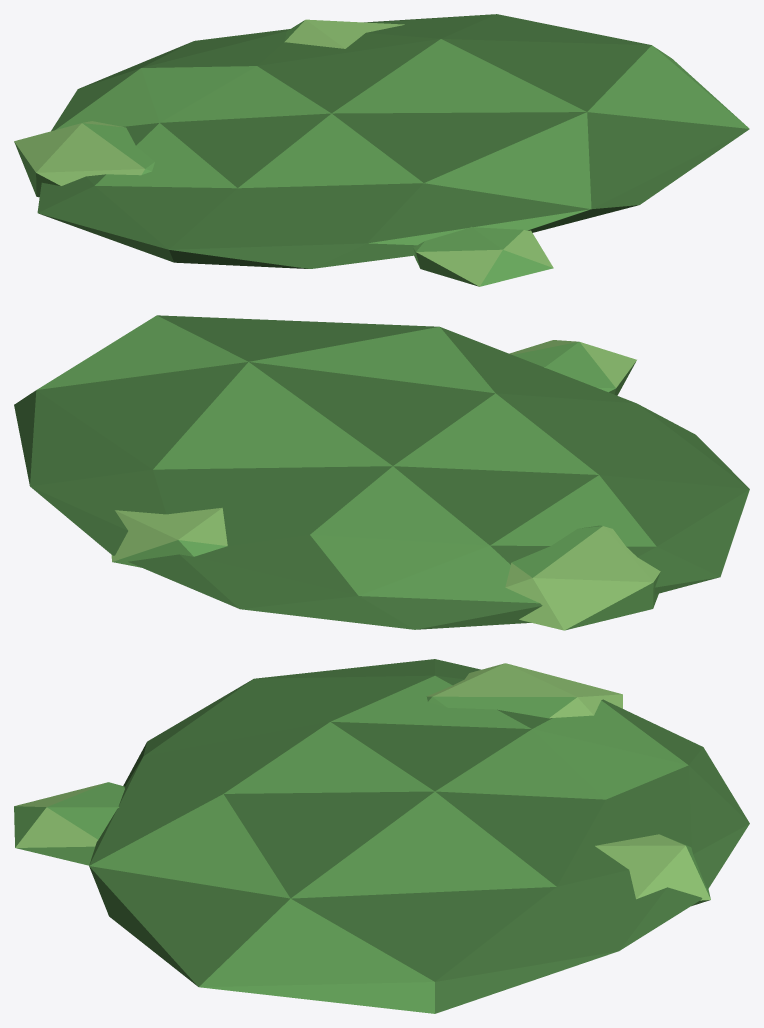
Rendered from moss_patch_a.glb.
3 renders of one model, top to bottom at view 1: azimuth 30°, elevation 25°; view 2: azimuth 150°, elevation 25°; view 3: azimuth 270°, elevation 25°, orthographic. The views are drawn at different scales.
Parts seen in each view (by area): view 1: MossPatchA; view 2: MossPatchA; view 3: MossPatchA.
Part boxes in pixels (x1,y1,x2,y2): MossPatchA: [14, 14, 749, 286]; MossPatchA: [14, 315, 749, 630]; MossPatchA: [14, 659, 749, 1013].
Size of the model in its own units: 0.7673 by 0.0491 by 0.6724.
